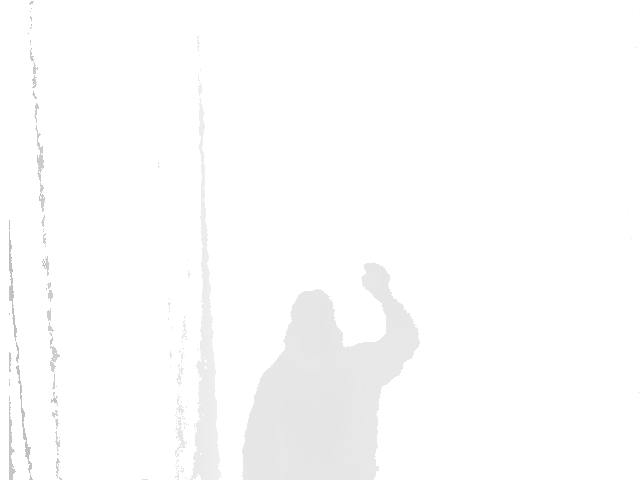hand: (361, 262, 395, 305)
head: (284, 289, 344, 350)
person: (242, 263, 419, 480)
